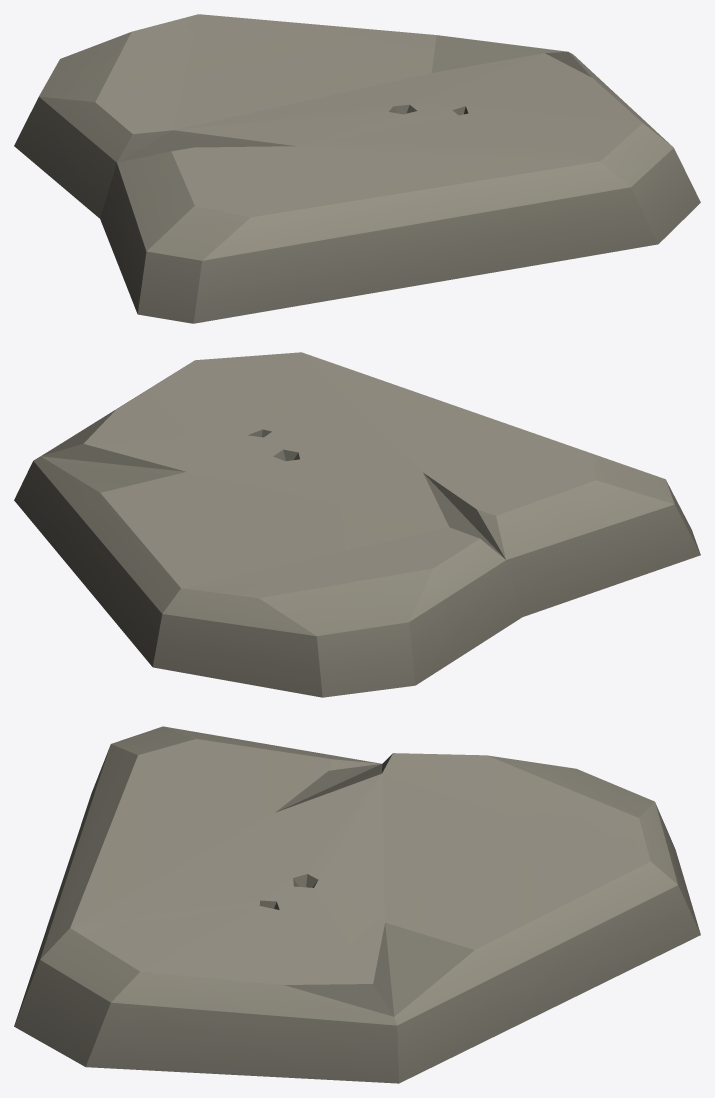
File: Rock_Slab_4A.fbx
3 renders of one model, top to bottom at view 1: azimuth 30°, elevation 25°; view 2: azimuth 150°, elevation 25°; view 3: azimuth 270°, elevation 25°, orthographic. The views are drawn at different scales.
Visible parts, largest first — view 1: Rock_Slab_4A; view 2: Rock_Slab_4A; view 3: Rock_Slab_4A.
Part boxes in pixels (x1,y1,x2,y2): Rock_Slab_4A: (14,14,700,323); Rock_Slab_4A: (14,352,700,697); Rock_Slab_4A: (14,726,700,1083).
Size of the model in its own units: 3.27 by 0.399 by 3.08.
